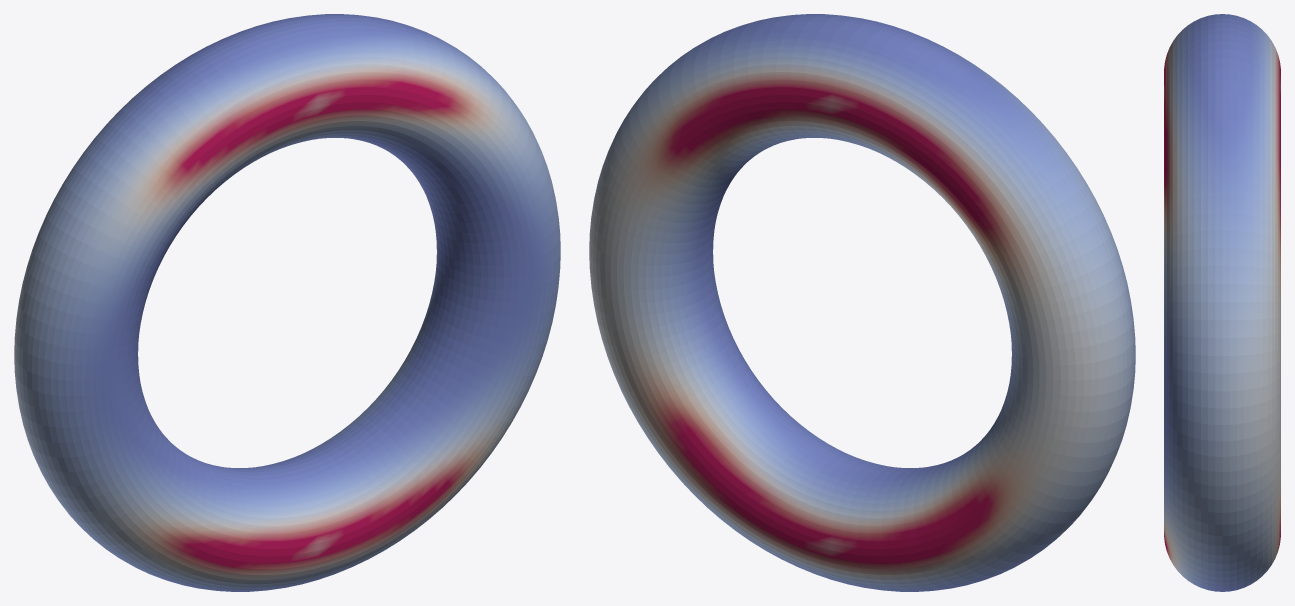
3 renders of one model, left to right at view 1: azimuth 30°, elevation 25°; view 2: azimuth 150°, elevation 25°; view 3: azimuth 270°, elevation 25°, orthographic. The views are drawn at different scales.
Parts seen in each view (by area): view 1: world; view 2: world; view 3: world.
Part boxes in pixels (left/top/right/bottom): world: left=14, top=14, right=560, bottom=591; world: left=589, top=14, right=1135, bottom=591; world: left=1164, top=14, right=1280, bottom=591.
Size of the model in its own units: 21.73 by 21.73 by 4.39.
